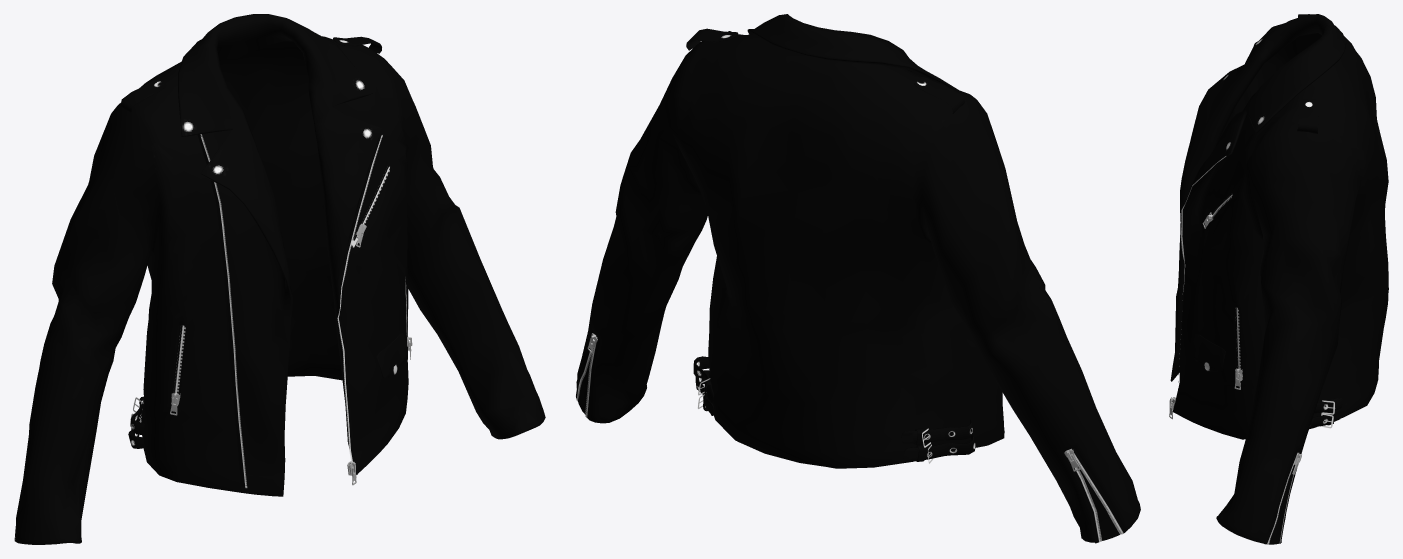
File: jacket.glb
3 views of the same model, side by side, from view 1: azimuth 30°, elevation 25°; view 2: azimuth 150°, elevation 25°; view 3: azimuth 270°, elevation 25° (orthographic). The views are drawn at different scales.
Parts seen in each view (by area): view 1: Jaicket_main_lp_JACKET_0, pPlane4_Zipper_tex_plane_0; view 2: Jaicket_main_lp_JACKET_0, pPlane4_Zipper_tex_plane_0; view 3: Jaicket_main_lp_JACKET_0, pPlane4_Zipper_tex_plane_0, Chain:PM3D_Plane3D_1_Chain:blinn1_0.
Part boxes in pixels (bbox=[...]): Jaicket_main_lp_JACKET_0: bbox=[15, 14, 545, 544]; pPlane4_Zipper_tex_plane_0: bbox=[14, 134, 407, 541]; Jaicket_main_lp_JACKET_0: bbox=[577, 14, 1140, 542]; pPlane4_Zipper_tex_plane_0: bbox=[576, 330, 1126, 543]; Jaicket_main_lp_JACKET_0: bbox=[1170, 14, 1388, 544]; pPlane4_Zipper_tex_plane_0: bbox=[1175, 155, 1299, 543]; Chain:PM3D_Plane3D_1_Chain:blinn1_0: bbox=[1169, 212, 1301, 474].
Bounding box in the file's own units: 8.69 × 7.12 × 3.44.
4 materials, 3 textured.
